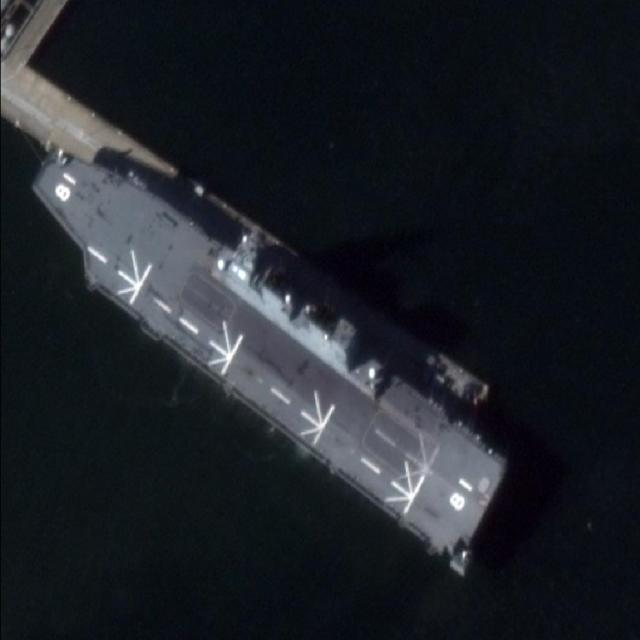Destroyer: (3, 125, 532, 571)
